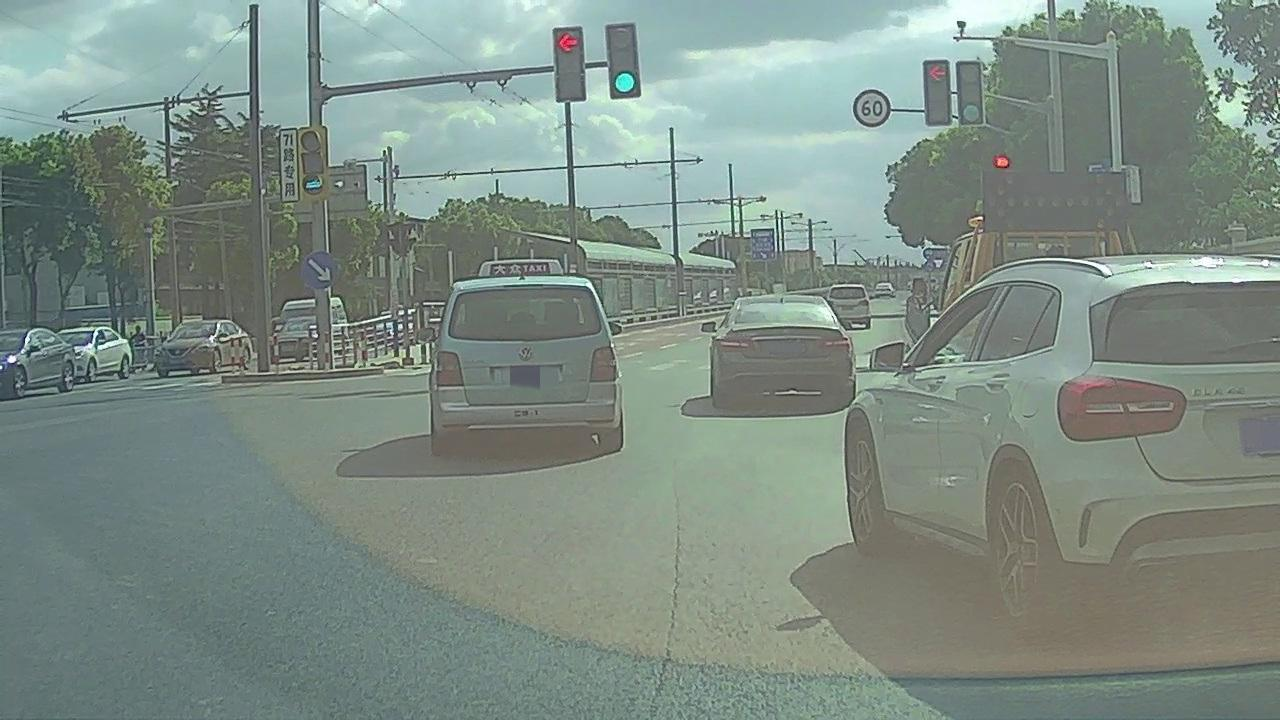traffic_light: (607, 24, 639, 96), (555, 27, 585, 102), (923, 61, 951, 124), (957, 62, 984, 125)
